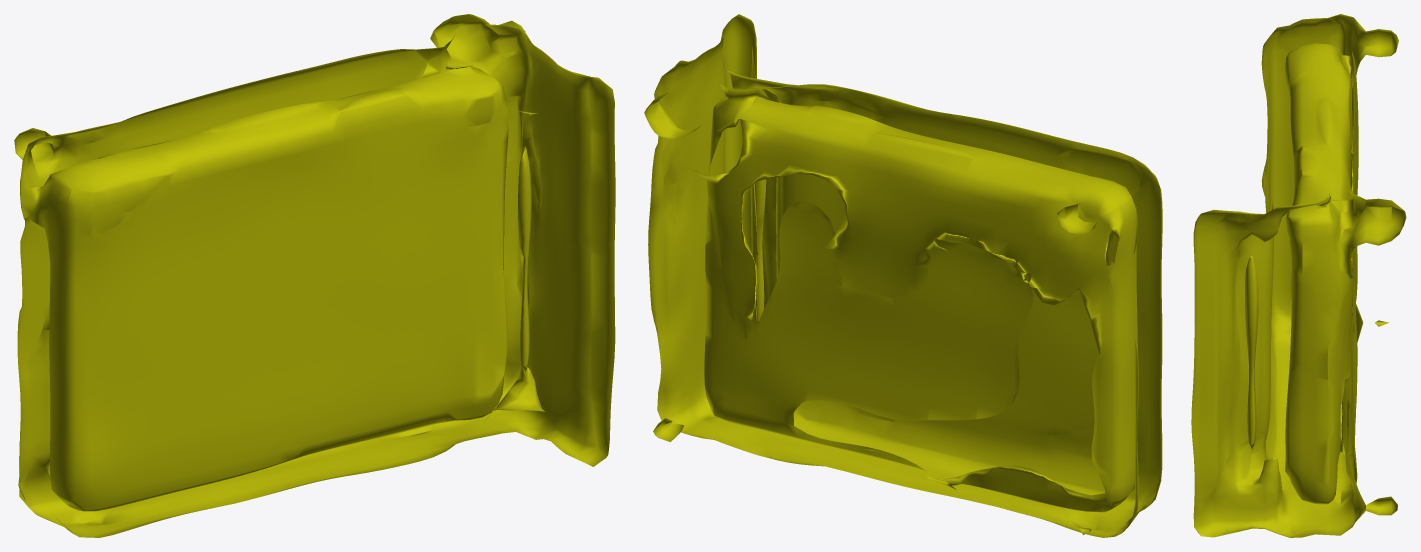
3 views of the same model, side by side, from view 1: azimuth 30°, elevation 25°; view 2: azimuth 150°, elevation 25°; view 3: azimuth 270°, elevation 25° (orthographic). The views are drawn at different scales.
Visible parts, largest first — view 1: world; view 2: world; view 3: world.
Part boxes in pixels (box(x1,y1,x2,y2)): world: box(14, 14, 615, 537); world: box(644, 14, 1162, 537); world: box(1191, 14, 1406, 537).
Size of the model in its own units: 40.14 by 29.35 by 16.96.
